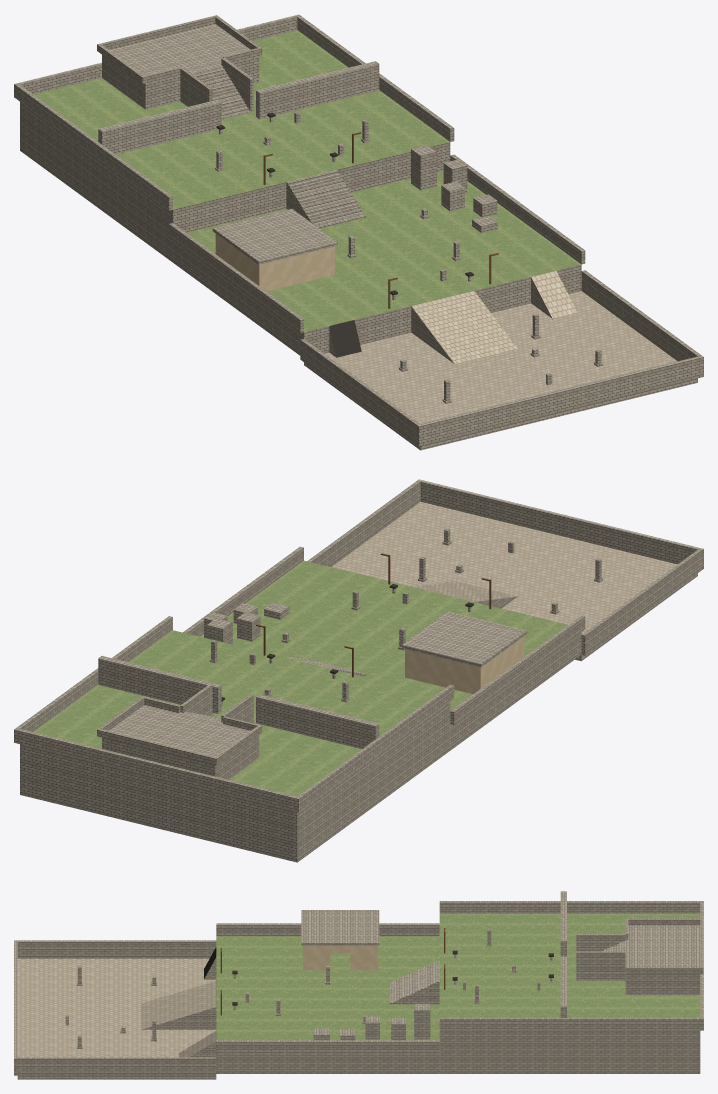
The model's file is stair.glb.
The picture shows the model from 3 angles, top to bottom: view 1: azimuth 30°, elevation 25°; view 2: azimuth 150°, elevation 25°; view 3: azimuth 270°, elevation 25°; orthographic projection. The views are drawn at different scales.
Parts seen in each view (by area): view 1: stair; view 2: stair; view 3: stair.
Boxes of the visible parts, bbox=[...] form: stair: bbox=[14, 14, 703, 450]; stair: bbox=[14, 479, 703, 862]; stair: bbox=[14, 891, 703, 1079].
Size of the model in its own units: 45.2 by 14 by 111.
Materials: 6 (5 with a texture image).
